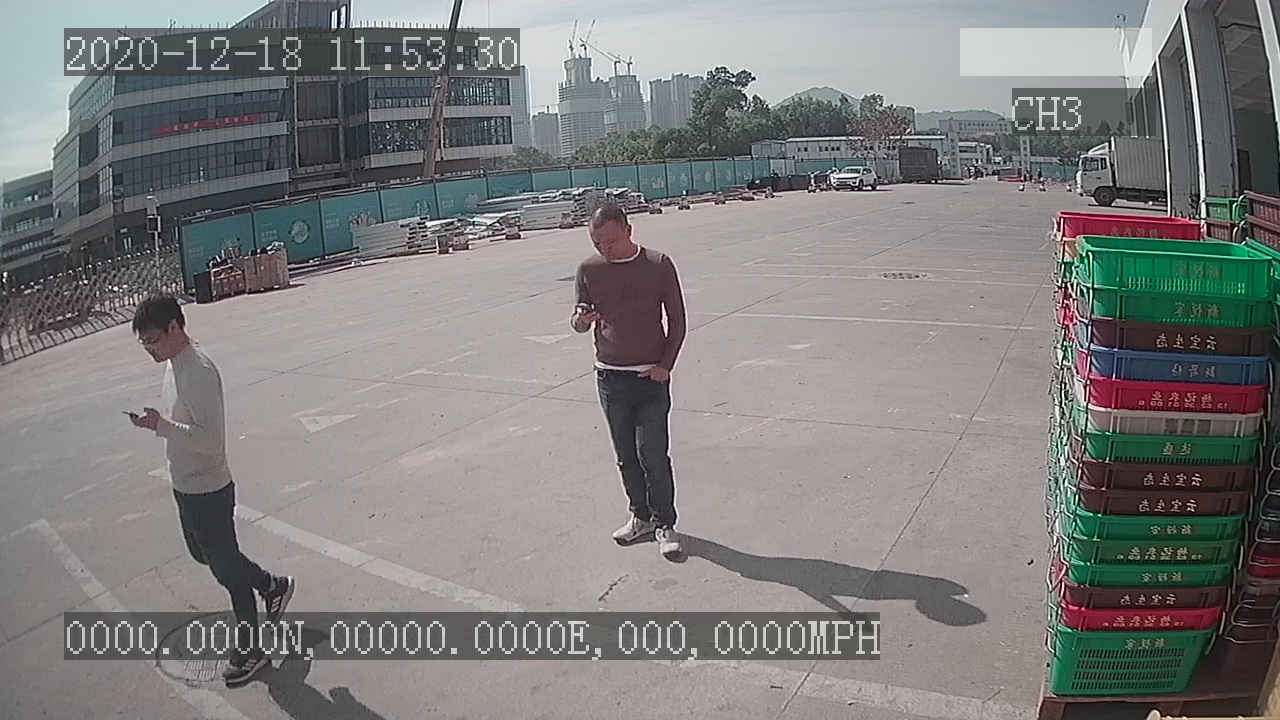person: (561, 197, 697, 567)
